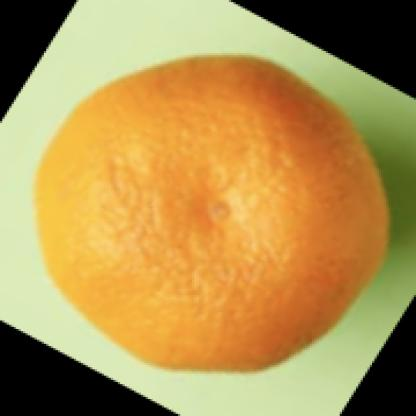fresh: (32, 54, 392, 373)
